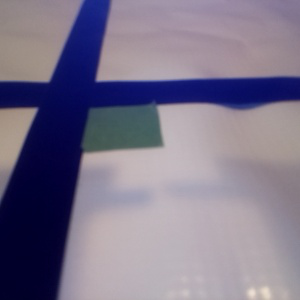bottom_right: (40, 82, 163, 150)
